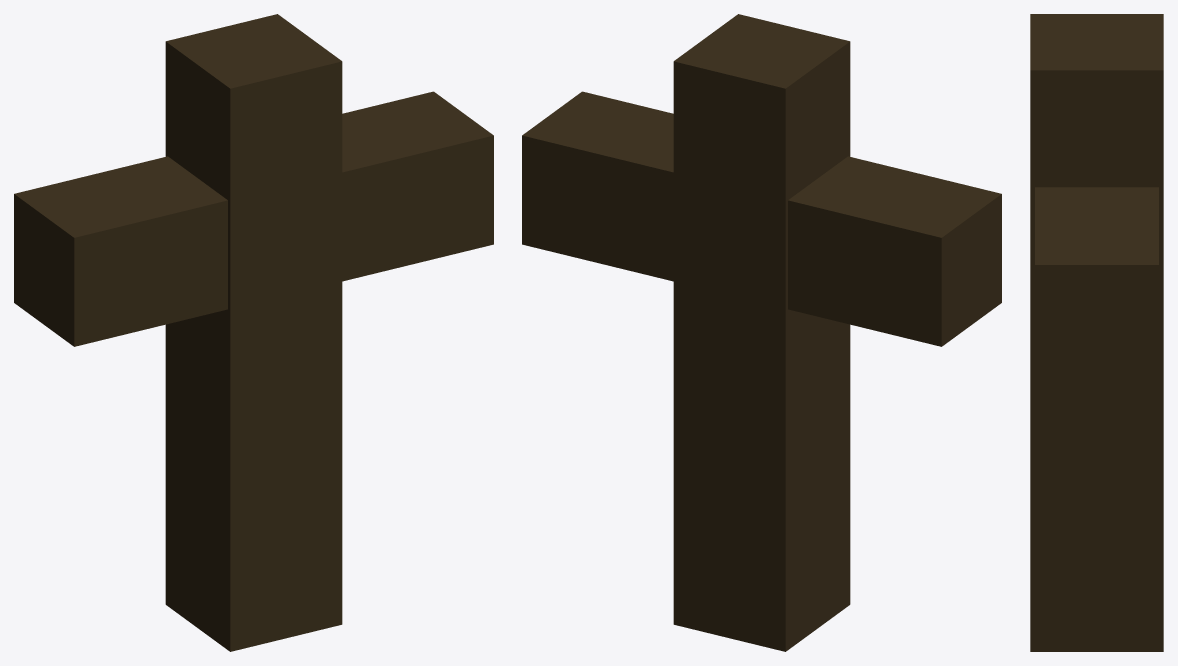
Rendered from Cruz.fbx.
The picture shows the model from 3 angles, left to right: view 1: azimuth 30°, elevation 25°; view 2: azimuth 150°, elevation 25°; view 3: azimuth 270°, elevation 25°; orthographic projection. The views are drawn at different scales.
Parts seen in each view (by area): view 1: Cruz; view 2: Cruz; view 3: Cruz.
Boxes of the visible parts, x1,y1,x2,y2 form: Cruz: (14, 14, 493, 651); Cruz: (522, 14, 1001, 651); Cruz: (1030, 14, 1163, 651).
Bounding box in the file's own units: 113 × 145 × 30.16.
